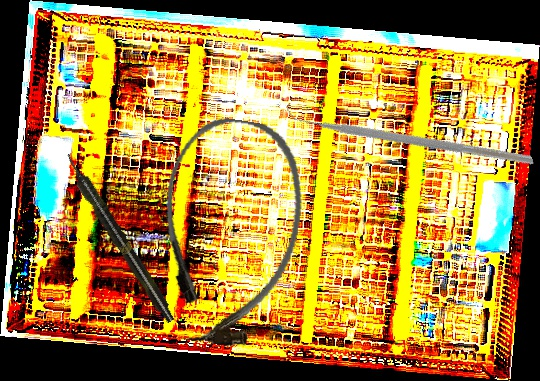Cannula: (145, 110, 314, 355)
Chopper: (282, 21, 535, 242)
Handpiece: (60, 150, 179, 326)
